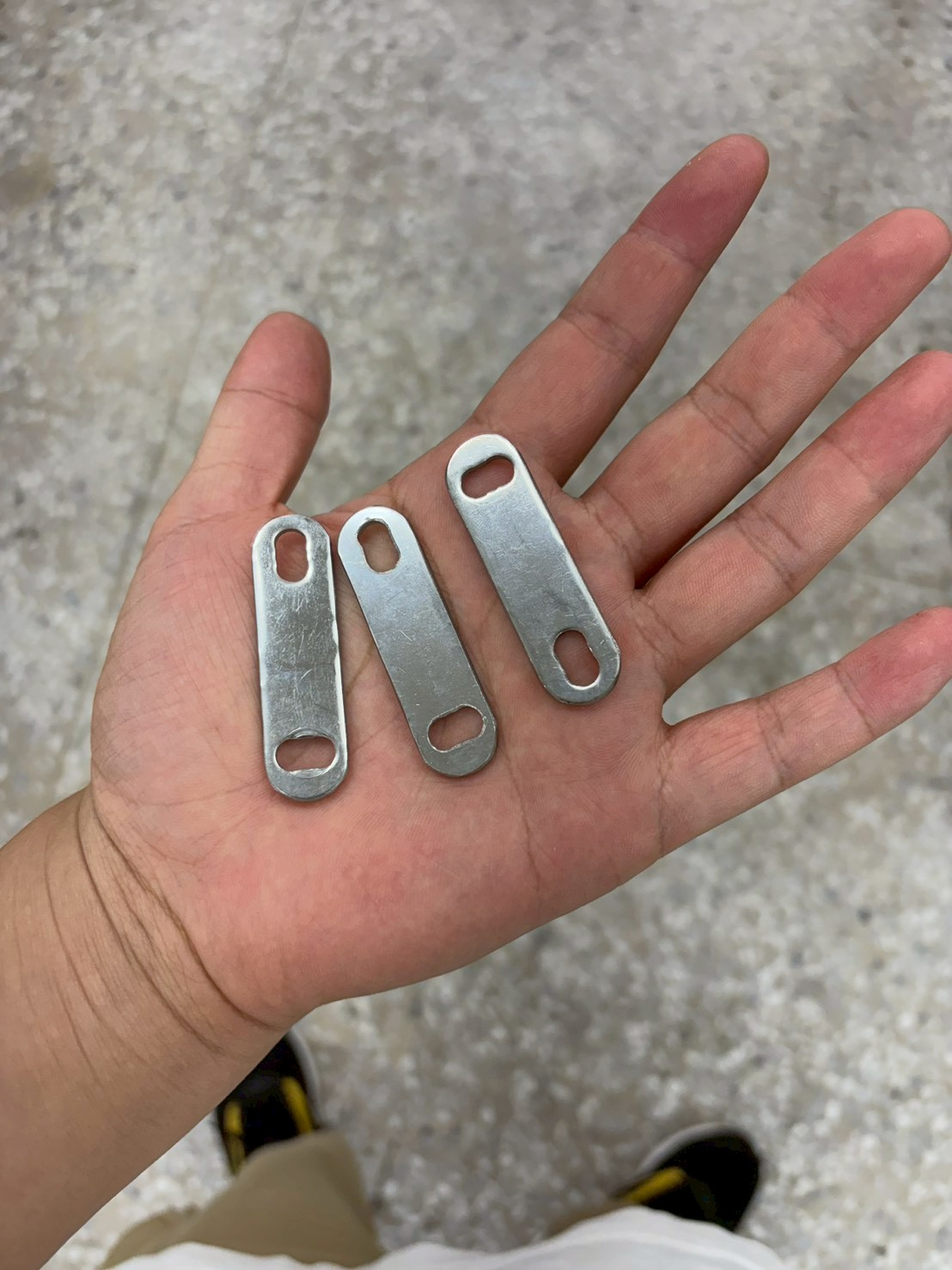Fe: (425, 456, 513, 745), (325, 525, 413, 813), (241, 518, 329, 806), (246, 413, 261, 423)
